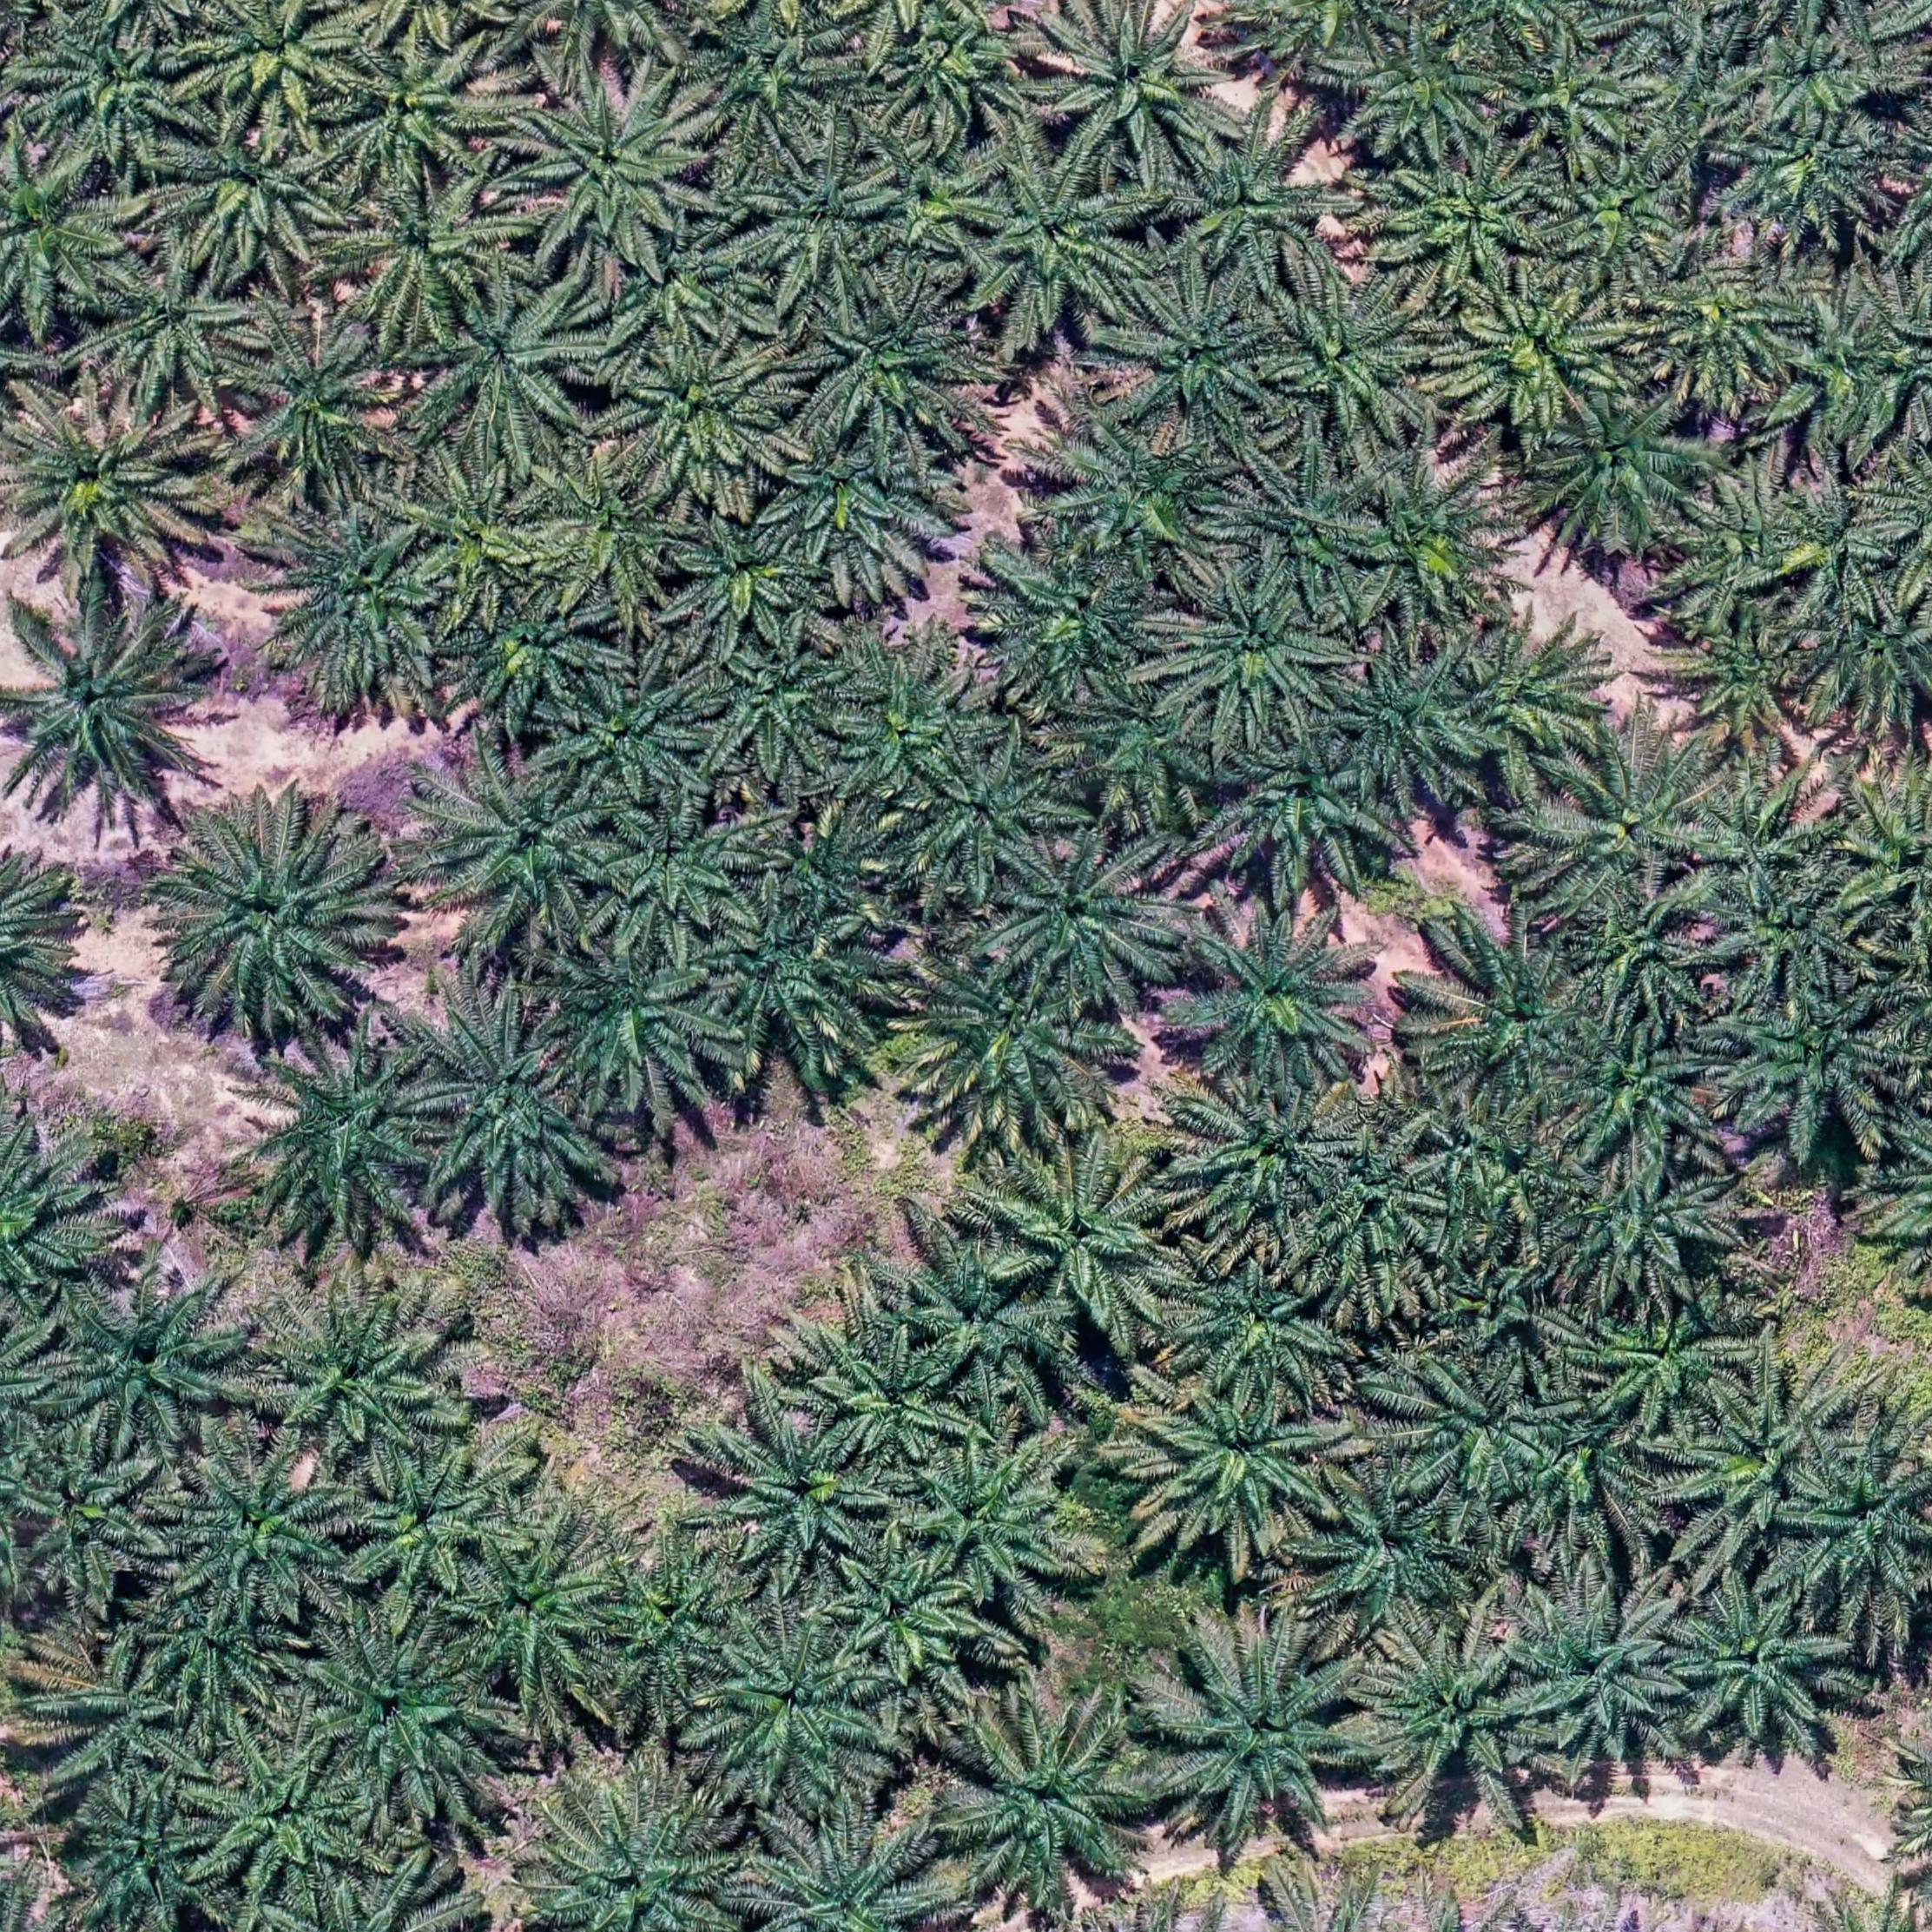palmtree: (158, 801, 399, 1029), (1152, 1628, 1375, 1842), (0, 598, 211, 815), (0, 389, 212, 593), (945, 1702, 1157, 1902), (415, 1008, 613, 1207), (904, 953, 1114, 1137), (516, 66, 715, 259), (980, 1149, 1184, 1336), (255, 504, 457, 693), (1177, 902, 1379, 1091), (250, 1038, 449, 1223), (48, 1278, 249, 1459), (424, 755, 623, 935), (1041, 3, 1242, 180), (700, 1620, 893, 1800), (1508, 1584, 1698, 1767), (254, 1289, 454, 1462), (1681, 1368, 1860, 1559), (980, 538, 1175, 714), (963, 150, 1151, 331), (1361, 1627, 1552, 1804), (1718, 981, 1909, 1157), (791, 277, 986, 447), (308, 1626, 502, 1796), (1147, 1385, 1342, 1552), (696, 893, 892, 1059), (419, 282, 609, 452), (227, 320, 406, 499), (524, 1788, 746, 1932), (545, 943, 734, 1111), (1534, 738, 1724, 903), (1440, 279, 1631, 442), (1213, 731, 1402, 895), (992, 834, 1176, 1001), (338, 166, 518, 335), (1264, 273, 1442, 444), (1054, 418, 1241, 578), (1532, 384, 1715, 547), (168, 1446, 348, 1611), (1540, 1149, 1737, 1299), (326, 27, 510, 188), (158, 112, 335, 279), (1172, 572, 1351, 737), (19, 10, 203, 169), (1306, 1473, 1481, 1639), (895, 1441, 1080, 1599), (1664, 1585, 1843, 1746), (768, 427, 950, 587), (1346, 458, 1515, 628), (610, 339, 791, 497), (525, 449, 697, 613), (1179, 1082, 1362, 1234), (1547, 1013, 1725, 1170), (89, 247, 266, 404), (1177, 122, 1344, 284), (1428, 938, 1595, 1099), (685, 3, 860, 155), (1388, 142, 1560, 294), (722, 1414, 890, 1571), (452, 1538, 623, 1692), (1499, 1388, 1664, 1546), (1173, 1258, 1349, 1405), (895, 1245, 1068, 1394), (0, 141, 135, 327), (15, 1441, 175, 1597), (1331, 651, 1496, 802), (1453, 615, 1614, 768), (1726, 106, 1903, 245), (1116, 277, 1284, 423), (1669, 471, 1820, 632), (828, 656, 994, 801), (1223, 455, 1383, 604), (445, 585, 616, 724), (354, 1447, 514, 1595), (593, 1553, 753, 1701), (209, 1749, 369, 1896), (1535, 146, 1695, 290), (745, 146, 900, 294), (1418, 1224, 1566, 1378), (1347, 23, 1509, 163), (1705, 871, 1875, 1005), (822, 1544, 980, 1685), (556, 669, 721, 805), (748, 1826, 956, 1932), (1592, 1296, 1755, 1432), (915, 750, 1072, 891), (599, 223, 759, 360), (590, 805, 761, 933), (400, 460, 552, 603), (1561, 884, 1715, 1024), (1495, 29, 1653, 163), (1404, 1358, 1553, 1500), (858, 126, 1005, 270), (193, 0, 357, 129), (1795, 581, 1932, 735), (1775, 300, 1915, 449), (1790, 1447, 1932, 1593), (880, 6, 1034, 140), (1667, 612, 1817, 748), (674, 508, 823, 644), (69, 1794, 218, 1926), (699, 638, 851, 766), (1303, 1132, 1448, 1266), (0, 842, 87, 1065), (1644, 281, 1808, 399), (815, 1334, 965, 1462), (1686, 772, 1834, 900), (1638, 10, 1776, 147), (1407, 1091, 1552, 1211), (0, 1131, 95, 1314), (50, 1650, 185, 1777), (146, 1592, 290, 1708), (1080, 689, 1219, 809), (1777, 482, 1903, 615), (1834, 776, 1932, 940), (764, 812, 902, 923), (1755, 28, 1883, 135)
